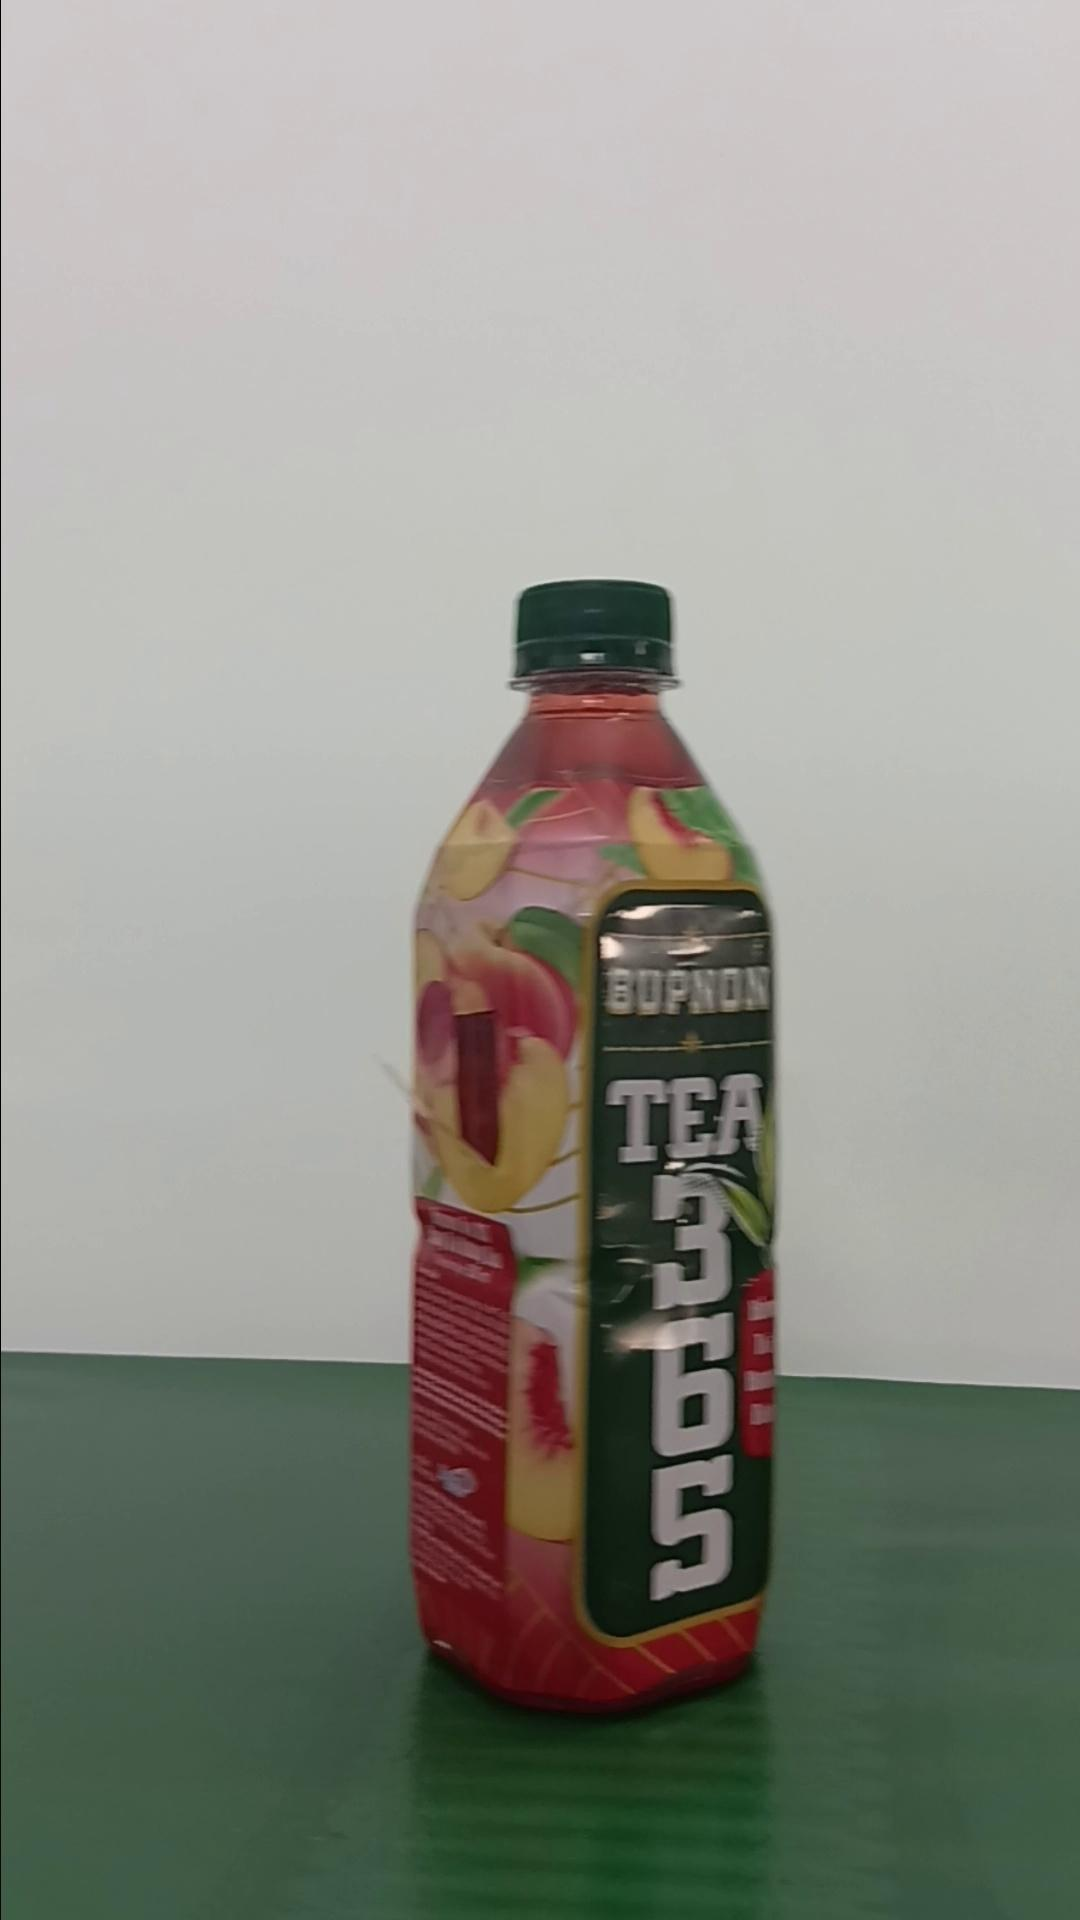loi rach va lap chai: (406, 571, 778, 1721)
